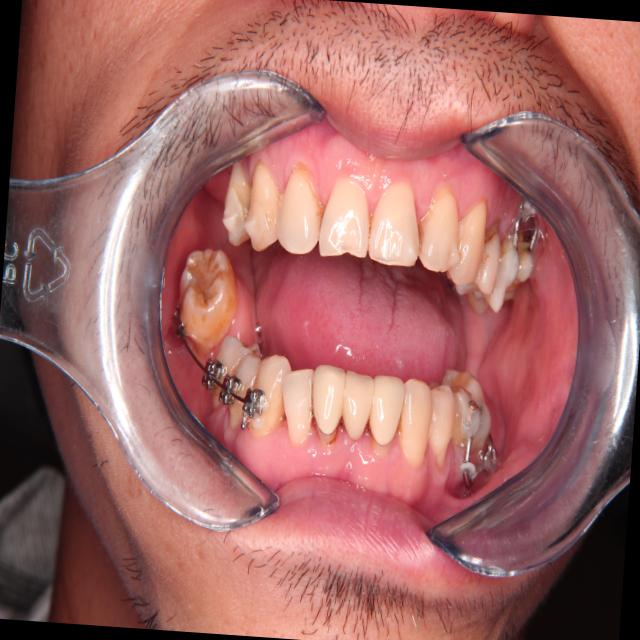tooth: (169, 241, 246, 361), (364, 170, 429, 275), (411, 172, 468, 278), (435, 363, 496, 458), (439, 186, 491, 296), (316, 170, 376, 264), (273, 159, 327, 261), (242, 345, 292, 443), (239, 155, 287, 257), (200, 330, 254, 420), (305, 353, 351, 455), (214, 147, 258, 253), (393, 366, 437, 472), (274, 359, 320, 455), (222, 343, 265, 435), (364, 364, 410, 449), (486, 218, 523, 319), (423, 379, 459, 477), (337, 362, 378, 448), (471, 205, 505, 300), (511, 200, 543, 288)
